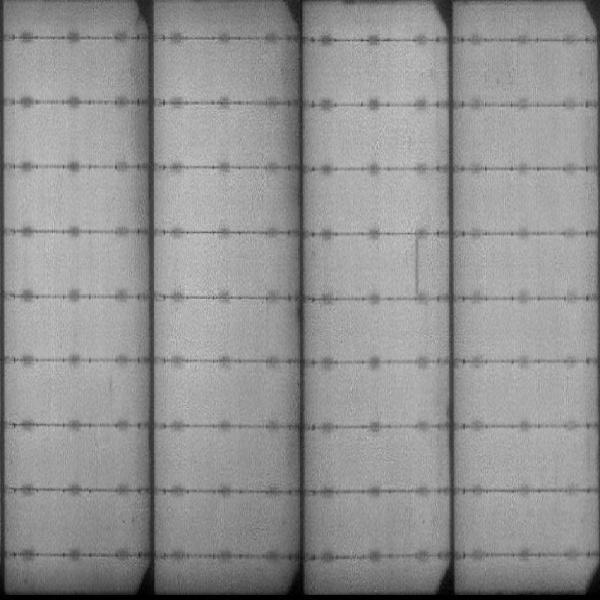scratch: (407, 232, 423, 295)
